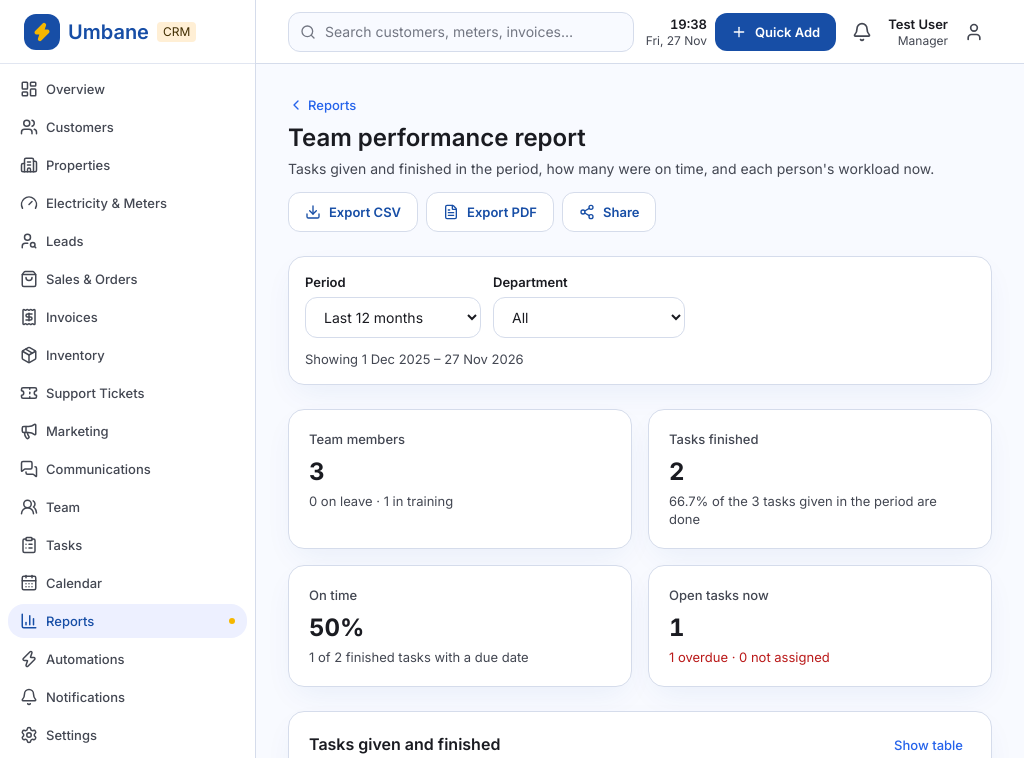
it: exports › says so when the PDF cannot be made
The width and height of the screenshot is (1024, 758).
Click the button "Export PDF" at {"x": 490, "y": 212}, box [426, 192, 554, 232]
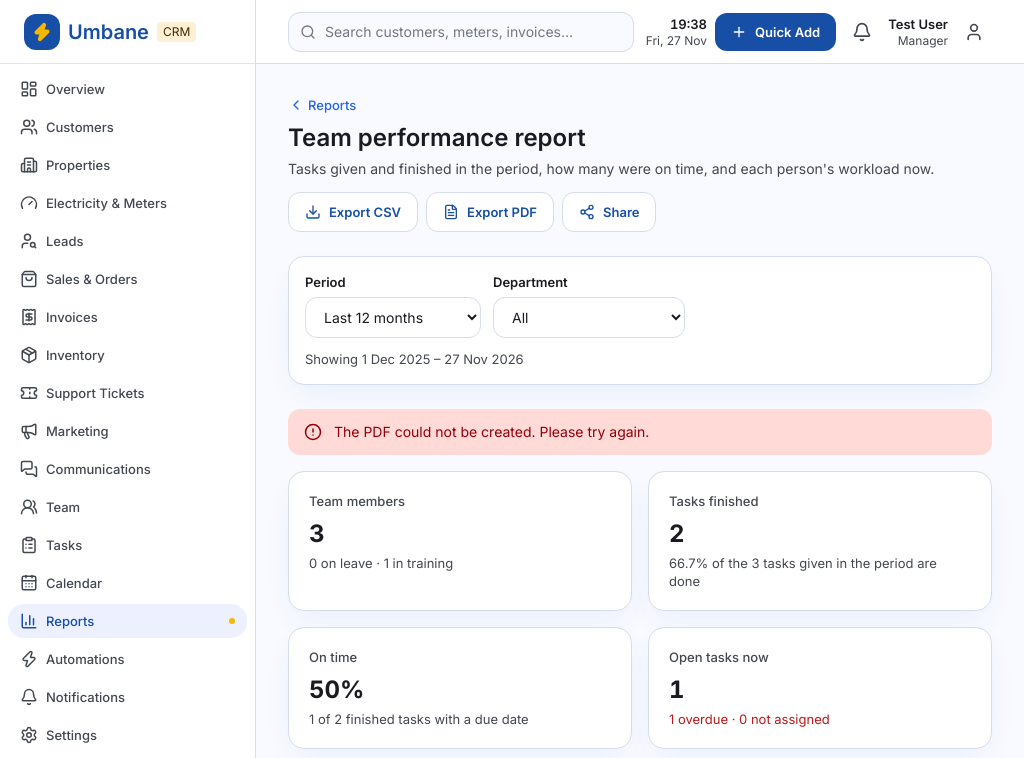
Expected: the text "The PDF could not be created. Please try again." is shown, [334, 421, 649, 443]
